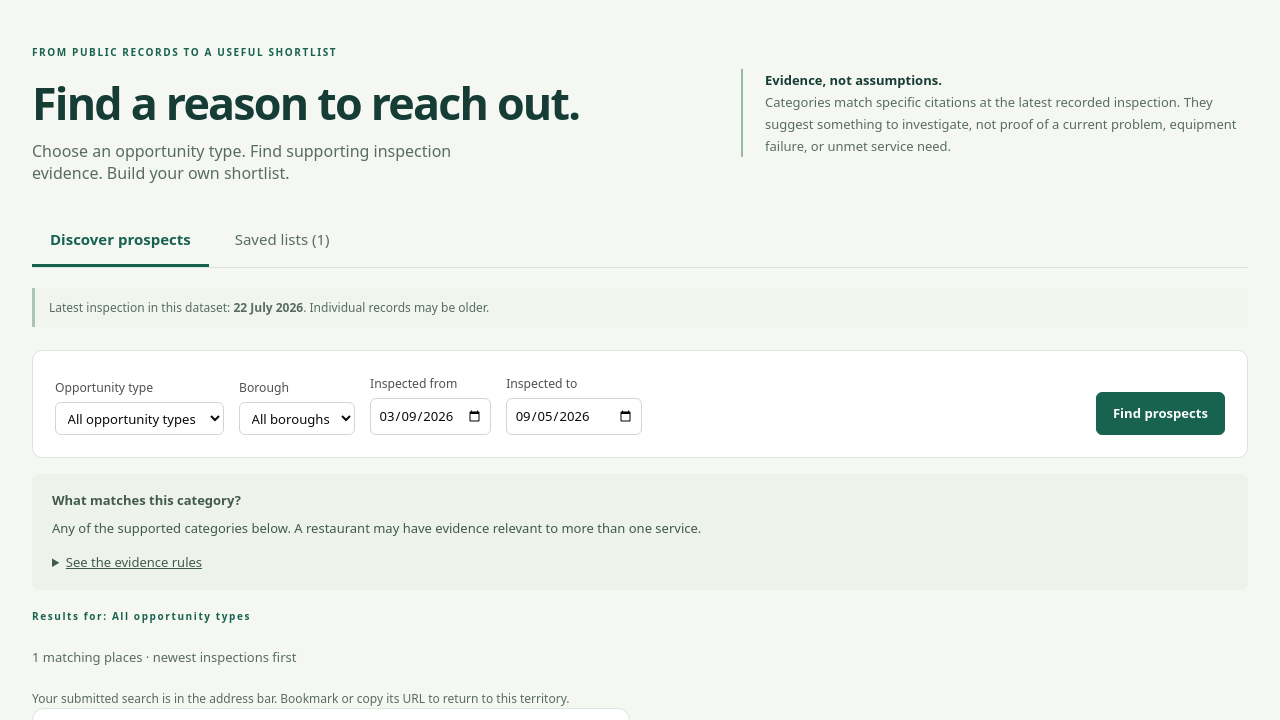
undoes a removal without losing notes
This screenshot has width=1280, height=720.
Click the button "Saved lists (1)" at (282, 241), box [217,214,348,267]
(page scrolled)
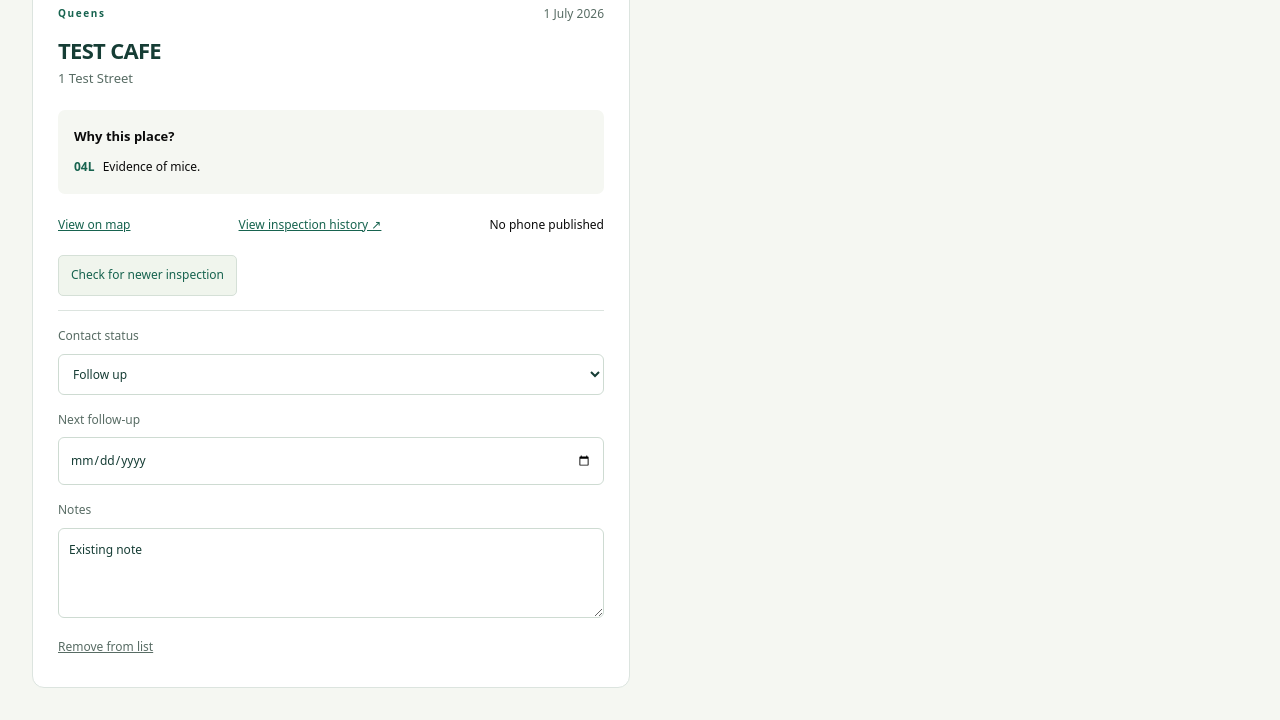
Click the button "Remove from list" at (106, 647), box [58,632,153,662]
(page scrolled)
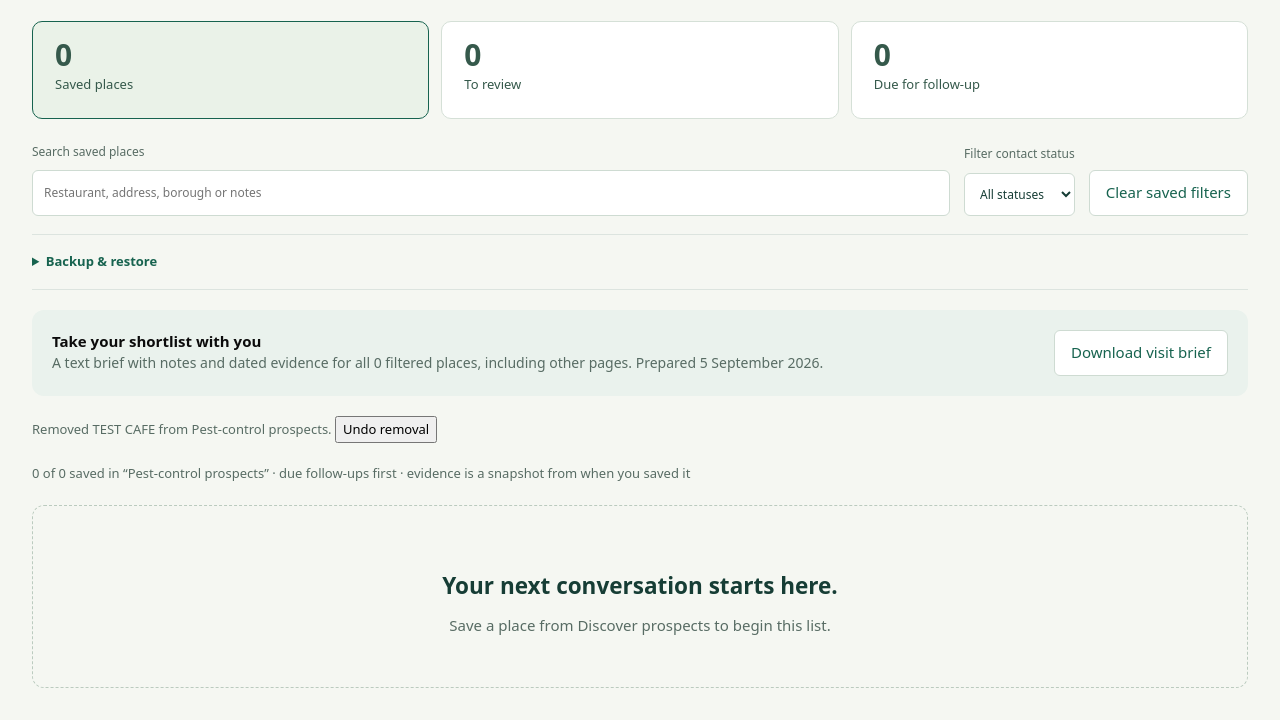
Click the button "Undo removal" at (386, 429), box [335,416,437,443]
(page scrolled)
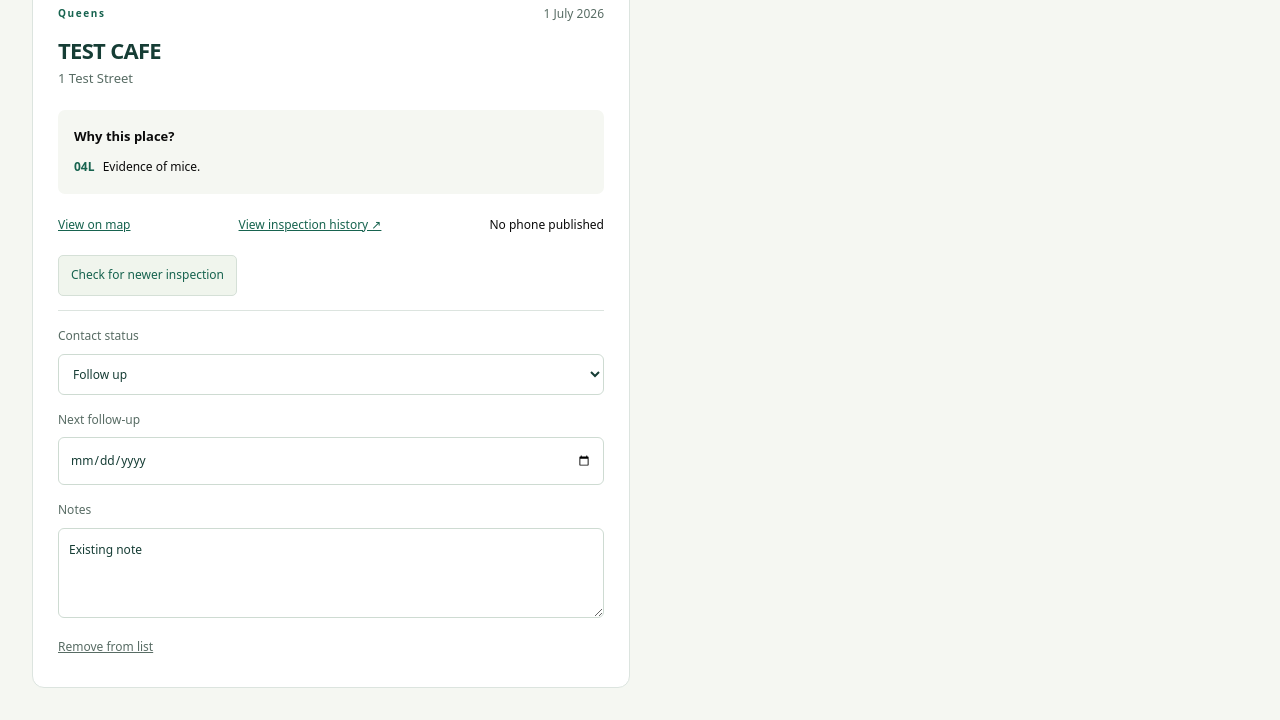
Result: the text box labelled "Notes" holds "Existing note" at [58,528,604,618]
